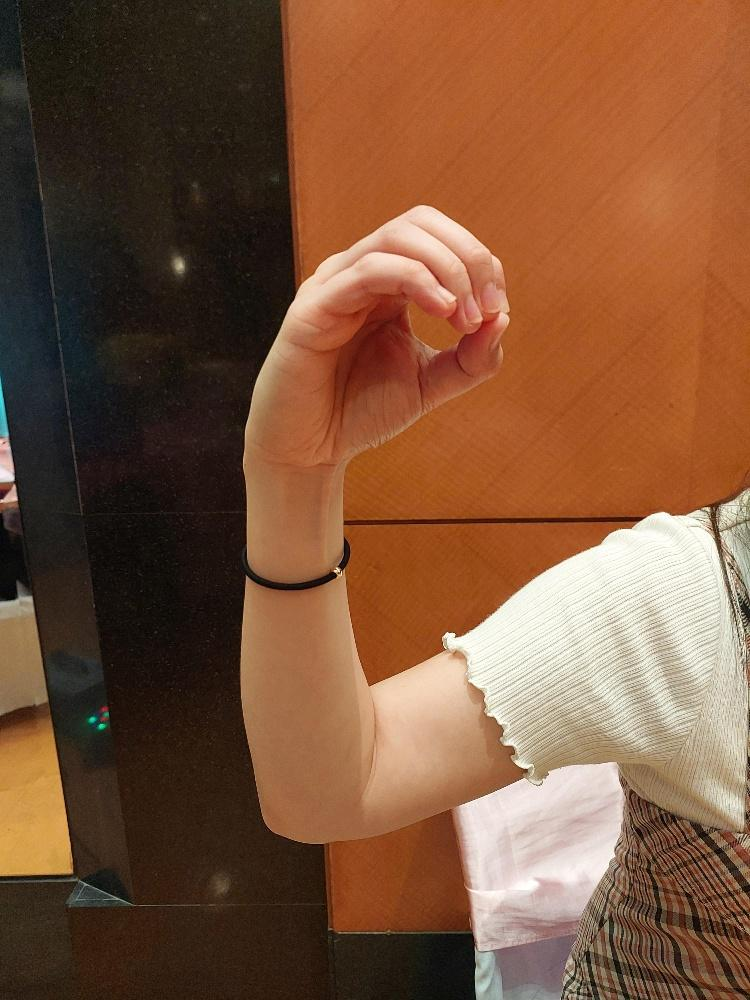o: (241, 201, 515, 470)
